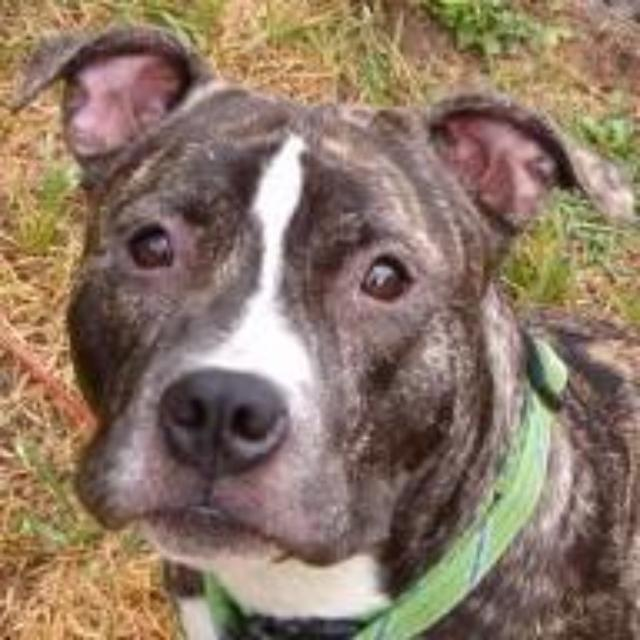amstaff: (8, 18, 638, 638)
